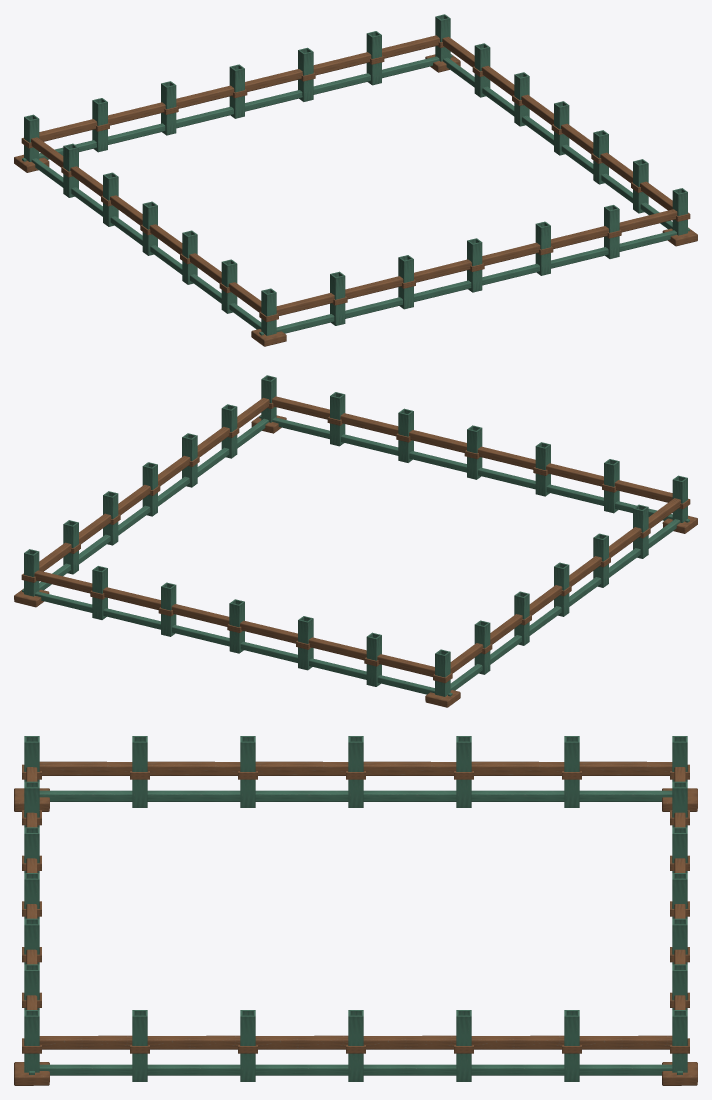
The picture shows the model from 3 angles, top to bottom: view 1: azimuth 30°, elevation 25°; view 2: azimuth 150°, elevation 25°; view 3: azimuth 270°, elevation 25°; orthographic projection. The views are drawn at different scales.
Visible parts, largest first — view 1: Tier 0 side 2 post 4, Tier 0 side 0 post 1, Tier 0 side 0 post 3, Tier 0 side 2 post 2, Tier 0 side 0 post 5, Tier 0 side 0 post 2, Tier 0 side 2 post 5, Tier 0 side 2 post 1, Tier 0 side 0 post 4, Tier 0 side 2 post 3, Tier 0 side 3 post 5, Tier 0 side 1 post 5 (+32 smaller); view 2: Tier 0 side 2 post 5, Tier 0 side 2 post 1, Tier 0 side 2 post 3, Tier 0 side 0 post 2, Tier 0 side 0 post 4, Tier 0 side 2 post 4, Tier 0 side 0 post 1, Tier 0 side 0 post 3, Tier 0 side 2 post 2, Tier 0 side 0 post 5, Tier 0 side 1 post 1, Tier 0 side 3 post 1 (+32 smaller); view 3: Tier 0 bay 3-0-0 copper tie, Tier 0 bay 3-0-1 copper tie, Tier 0 bay 3-0-2 copper tie, Tier 0 bay 3-0-3 copper tie, Tier 0 bay 3-0-4 copper tie, Tier 0 bay 3-0-5 copper tie, Tier 0 bay 1-0-0 copper tie, Tier 0 bay 1-0-1 copper tie, Tier 0 bay 1-0-2 copper tie, Tier 0 bay 1-0-3 copper tie, Tier 0 bay 1-0-4 copper tie, Tier 0 bay 1-0-5 copper tie (+38 smaller).
Part boxes in pixels (x1=…): Tier 0 side 2 post 4: x1=161, y1=81, x2=176, y2=135; Tier 0 side 0 post 1: x1=330, y1=271, x2=345, y2=325; Tier 0 side 0 post 3: x1=467, y1=238, x2=482, y2=292; Tier 0 side 2 post 2: x1=298, y1=47, x2=313, y2=101; Tier 0 side 0 post 5: x1=604, y1=205, x2=619, y2=258; Tier 0 side 0 post 2: x1=398, y1=255, x2=413, y2=309; Tier 0 side 2 post 5: x1=92, y1=98, x2=107, y2=152; Tier 0 side 2 post 1: x1=366, y1=31, x2=381, y2=85; Tier 0 side 0 post 4: x1=535, y1=221, x2=550, y2=275; Tier 0 side 2 post 3: x1=229, y1=64, x2=244, y2=118; Tier 0 side 3 post 5: x1=221, y1=259, x2=237, y2=313; Tier 0 side 1 post 5: x1=474, y1=43, x2=490, y2=97; Tier 0 side 2 post 5: x1=366, y1=632, x2=381, y2=686; Tier 0 side 2 post 1: x1=92, y1=566, x2=107, y2=619; Tier 0 side 2 post 3: x1=229, y1=599, x2=244, y2=653; Tier 0 side 0 post 2: x1=535, y1=442, x2=550, y2=496; Tier 0 side 0 post 4: x1=398, y1=408, x2=413, y2=462; Tier 0 side 2 post 4: x1=298, y1=616, x2=313, y2=670; Tier 0 side 0 post 1: x1=604, y1=459, x2=619, y2=513; Tier 0 side 0 post 3: x1=467, y1=425, x2=482, y2=479; Tier 0 side 2 post 2: x1=161, y1=582, x2=176, y2=636; Tier 0 side 0 post 5: x1=330, y1=392, x2=345, y2=446; Tier 0 side 1 post 1: x1=221, y1=404, x2=237, y2=458; Tier 0 side 3 post 1: x1=474, y1=620, x2=490, y2=674; Tier 0 bay 3-0-0 copper tie: x1=579, y1=761, x2=672, y2=775; Tier 0 bay 3-0-1 copper tie: x1=471, y1=761, x2=564, y2=775; Tier 0 bay 3-0-2 copper tie: x1=363, y1=761, x2=456, y2=775; Tier 0 bay 3-0-3 copper tie: x1=255, y1=761, x2=348, y2=775; Tier 0 bay 3-0-4 copper tie: x1=147, y1=761, x2=240, y2=775; Tier 0 bay 3-0-5 copper tie: x1=39, y1=761, x2=132, y2=775; Tier 0 bay 1-0-0 copper tie: x1=39, y1=1035, x2=132, y2=1049; Tier 0 bay 1-0-1 copper tie: x1=147, y1=1035, x2=240, y2=1049; Tier 0 bay 1-0-2 copper tie: x1=255, y1=1035, x2=348, y2=1049; Tier 0 bay 1-0-3 copper tie: x1=363, y1=1035, x2=456, y2=1049; Tier 0 bay 1-0-4 copper tie: x1=471, y1=1035, x2=564, y2=1049; Tier 0 bay 1-0-5 copper tie: x1=579, y1=1035, x2=672, y2=1049.
Bounding box in the file's own units: 2.85 × 0.3017 × 2.85.
2 materials, 2 textured.
